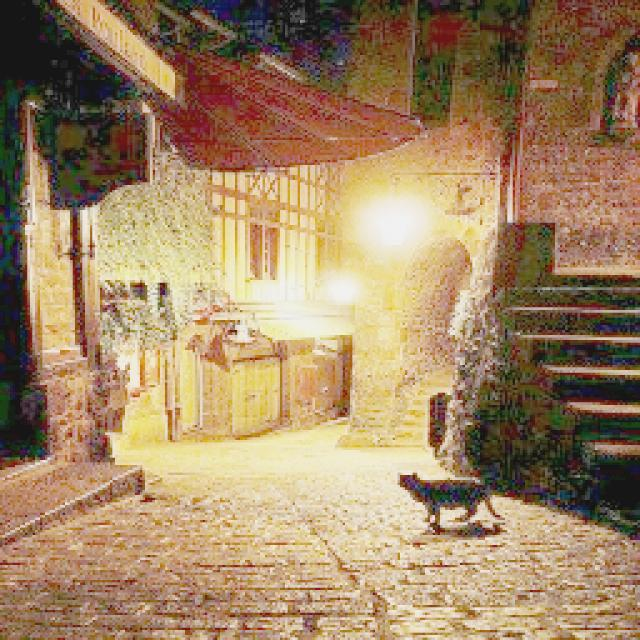cat: (369, 436, 513, 549)
